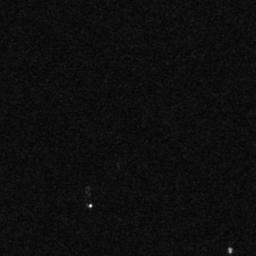ship: (227, 246, 234, 254)
